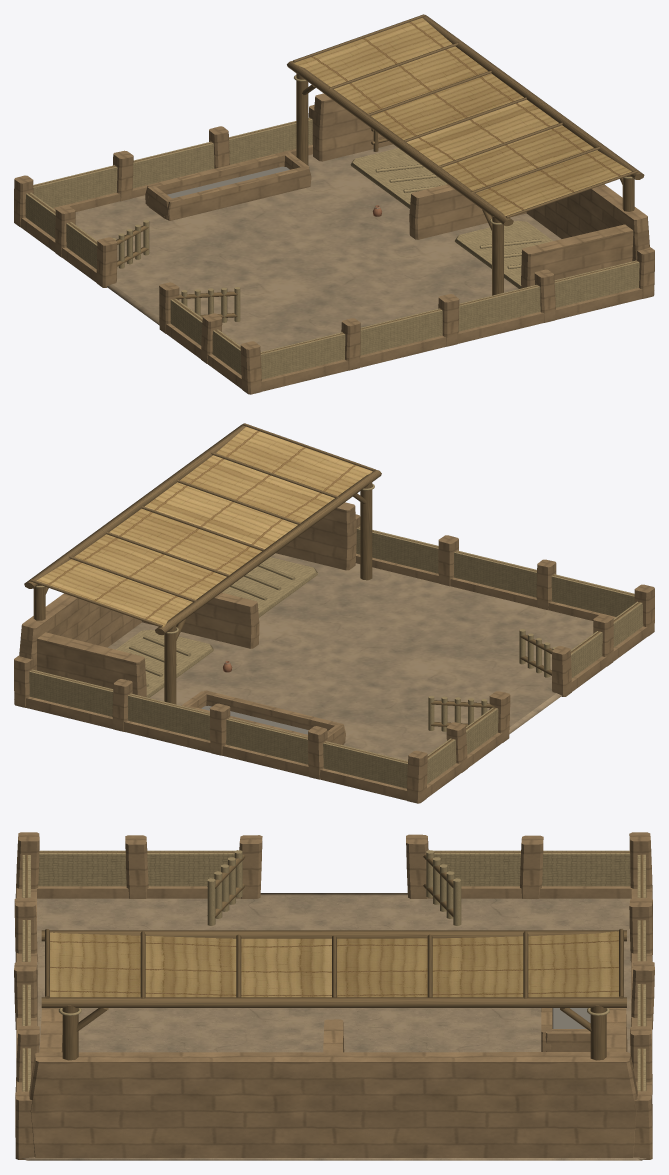
Rendered from cowshed.glb.
3 renders of one model, top to bottom at view 1: azimuth 30°, elevation 25°; view 2: azimuth 150°, elevation 25°; view 3: azimuth 270°, elevation 25°, orthographic. The views are drawn at different scales.
Parts seen in each view (by area): view 1: original-cowshed-alluvial-earth, original-cowshed-game-raw-brick-facing, original-cowshed-laid-reed-thatch, original-cowshed-reed-mat, original-cowshed-worn-timber, original-cowshed-game-door-shadow; view 2: original-cowshed-alluvial-earth, original-cowshed-game-raw-brick-facing, original-cowshed-laid-reed-thatch, original-cowshed-reed-mat, original-cowshed-worn-timber; view 3: original-cowshed-game-raw-brick-facing, original-cowshed-alluvial-earth, original-cowshed-laid-reed-thatch, original-cowshed-worn-timber, original-cowshed-reed-mat, original-cowshed-game-door-shadow.
Part boxes in pixels (x1,y1,x2,y2): original-cowshed-alluvial-earth: [75, 144, 561, 351]; original-cowshed-game-raw-brick-facing: [14, 93, 654, 394]; original-cowshed-laid-reed-thatch: [293, 18, 631, 215]; original-cowshed-reed-mat: [25, 75, 639, 379]; original-cowshed-worn-timber: [28, 14, 644, 353]; original-cowshed-game-door-shadow: [167, 166, 289, 198]; original-cowshed-alluvial-earth: [108, 553, 593, 760]; original-cowshed-game-raw-brick-facing: [14, 502, 654, 803]; original-cowshed-laid-reed-thatch: [36, 426, 372, 627]; original-cowshed-reed-mat: [29, 484, 643, 788]; original-cowshed-worn-timber: [24, 423, 640, 762]; original-cowshed-game-raw-brick-facing: [14, 832, 654, 1159]; original-cowshed-alluvial-earth: [22, 893, 646, 1160]; original-cowshed-laid-reed-thatch: [50, 931, 618, 997]; original-cowshed-worn-timber: [25, 851, 643, 1091]; original-cowshed-reed-mat: [22, 850, 646, 1091]; original-cowshed-game-door-shadow: [552, 1008, 590, 1028].
Size of the model in its own units: 10.72 by 2.96 by 10.75.
Materials: 8 (7 with a texture image).
